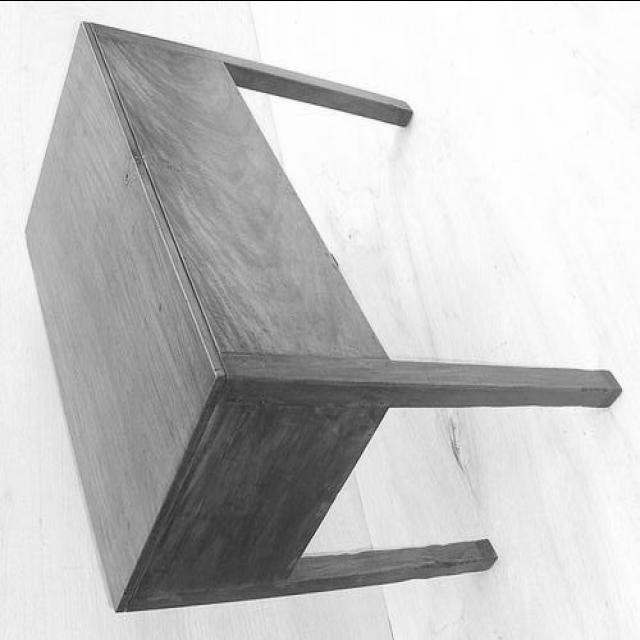table: (24, 23, 622, 611)
